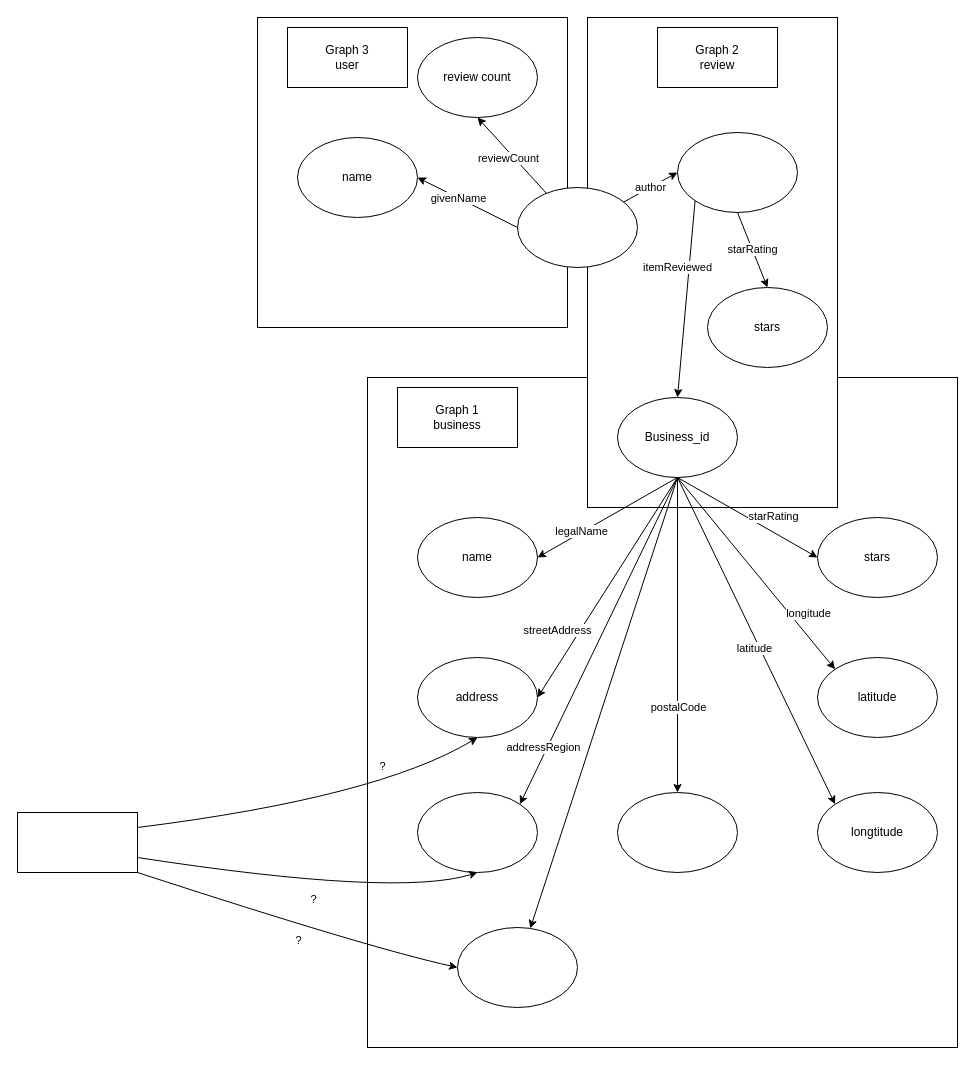
The diagram is 975 pixels wide and 1065 high, and some of its shapes have lost their labels. Here are the shapes that lost their labels. From the top down, the centre of each, then its label:
point (737, 172): review_id
point (577, 227): user_id
point (77, 842): dbpedia
point (477, 832): state
point (677, 832): postal_code
point (517, 967): City
